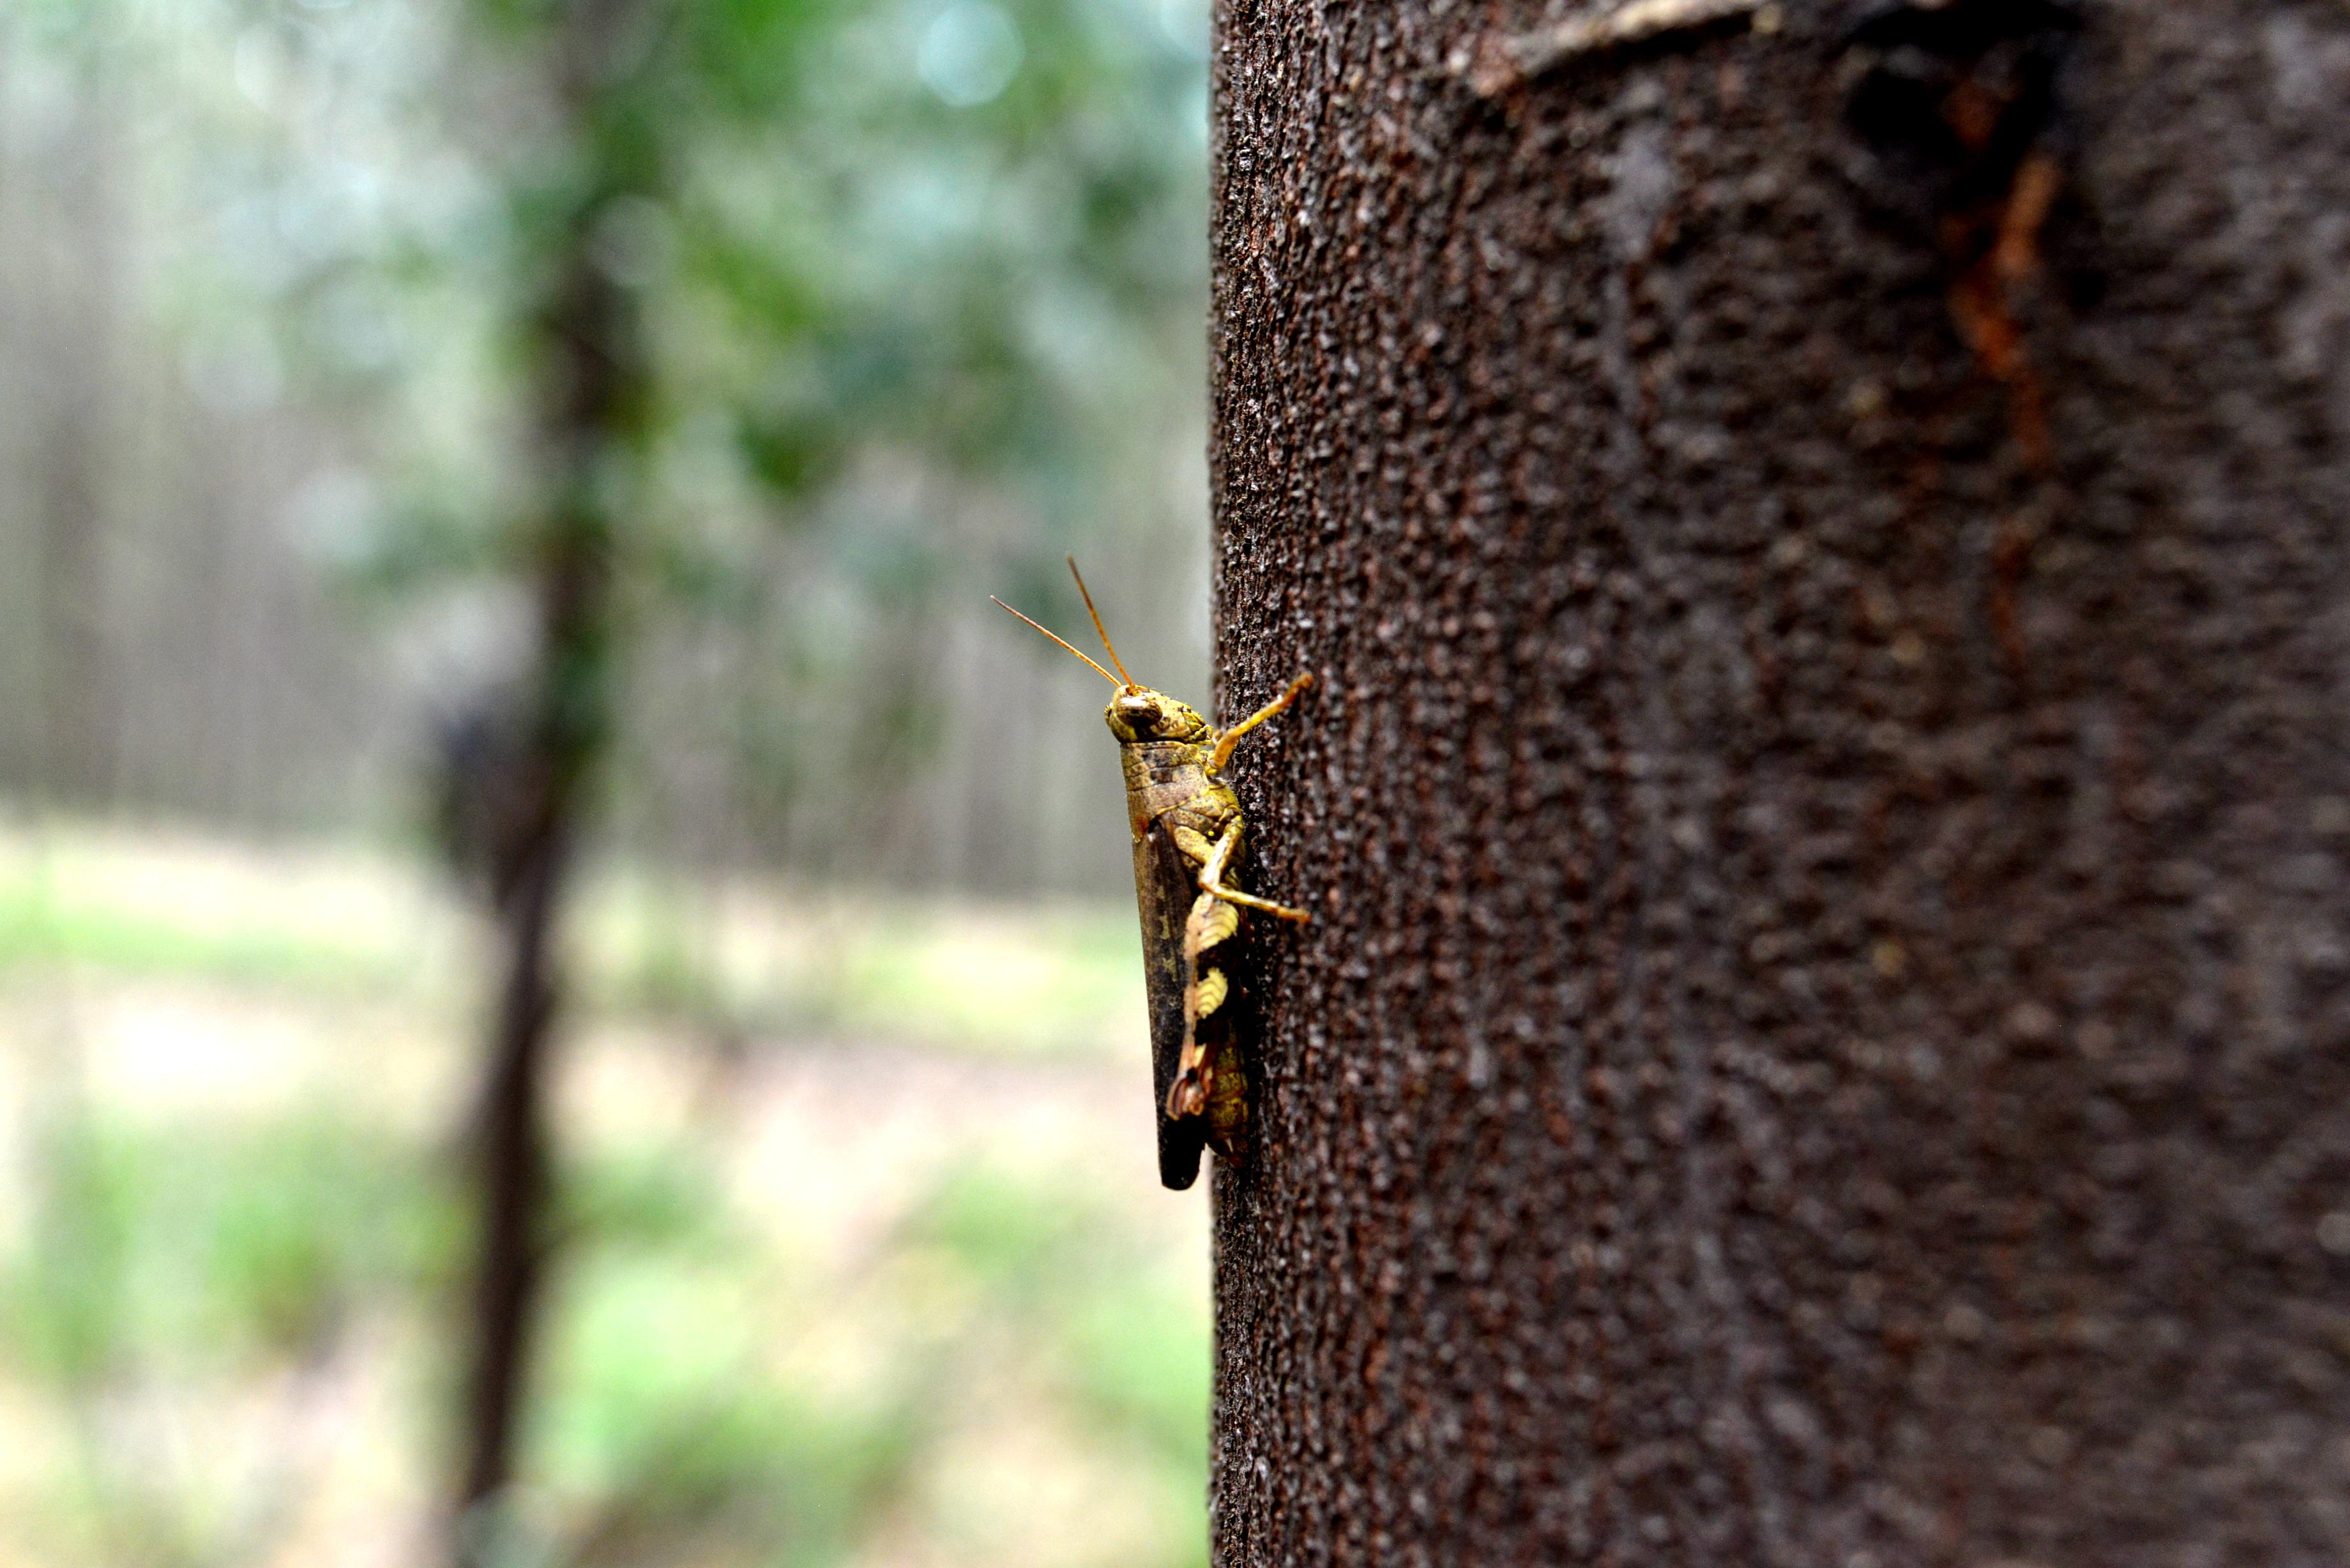Stem Borer: (1808, 0, 2175, 492)
